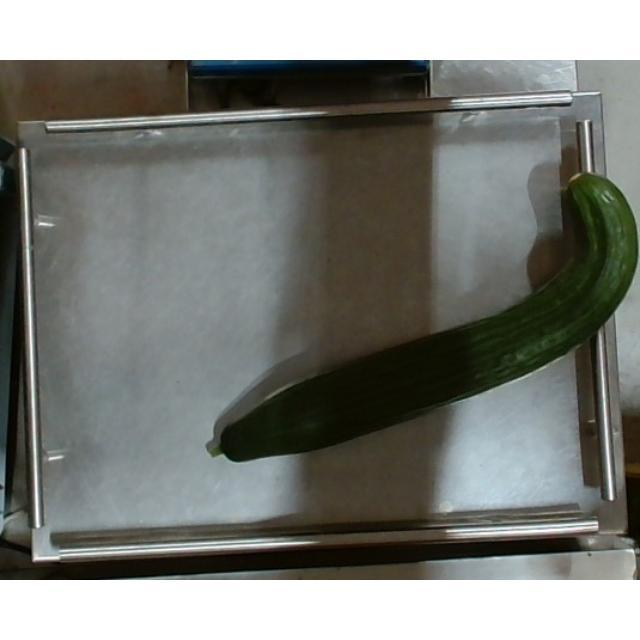cucumber: (212, 168, 638, 472)
